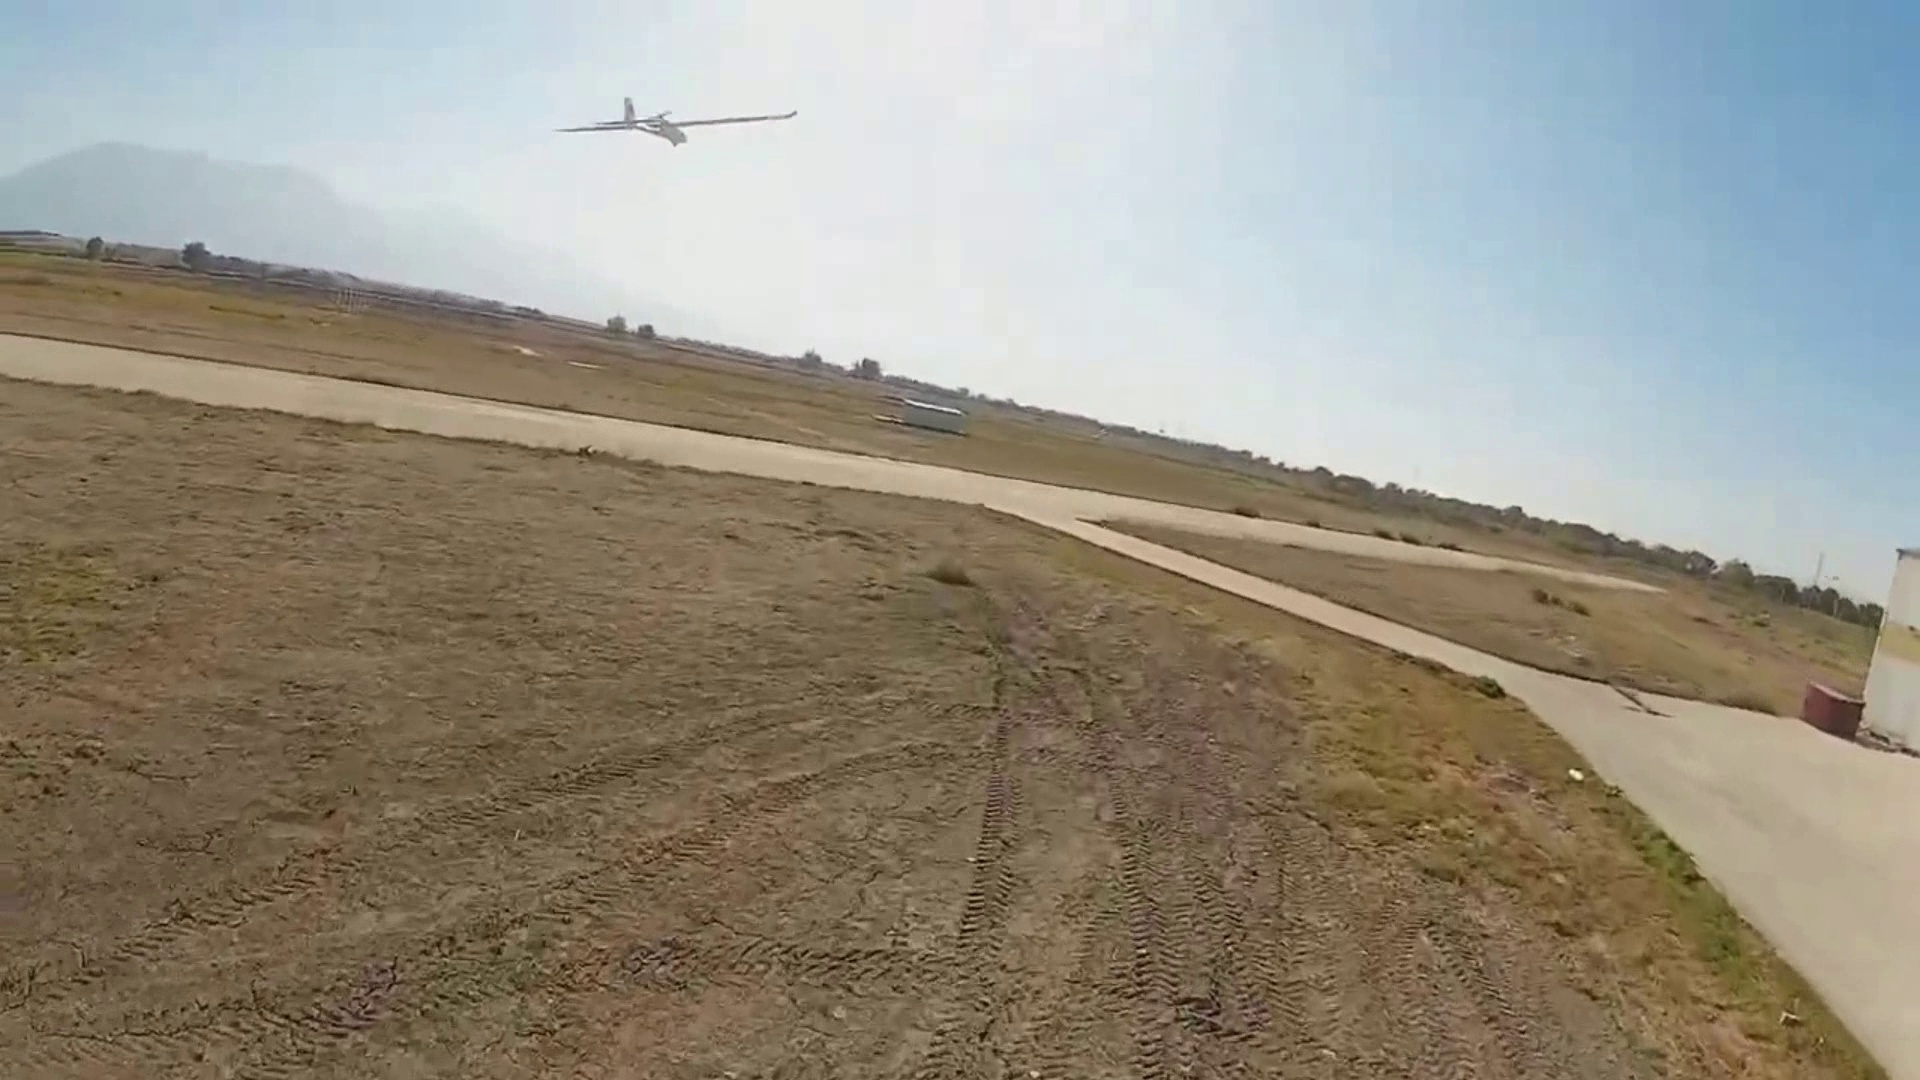airplane: (556, 98, 799, 146)
